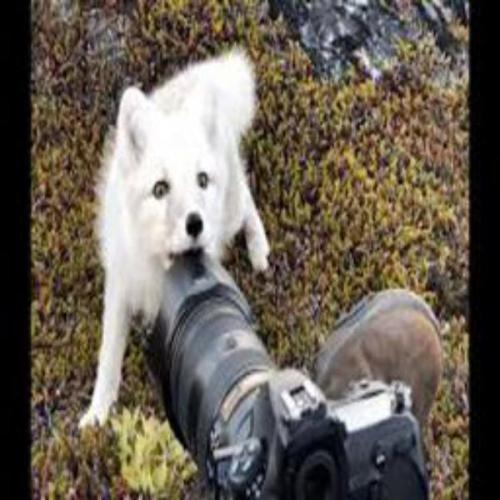arctic_fox-endangered: (75, 51, 270, 432)
